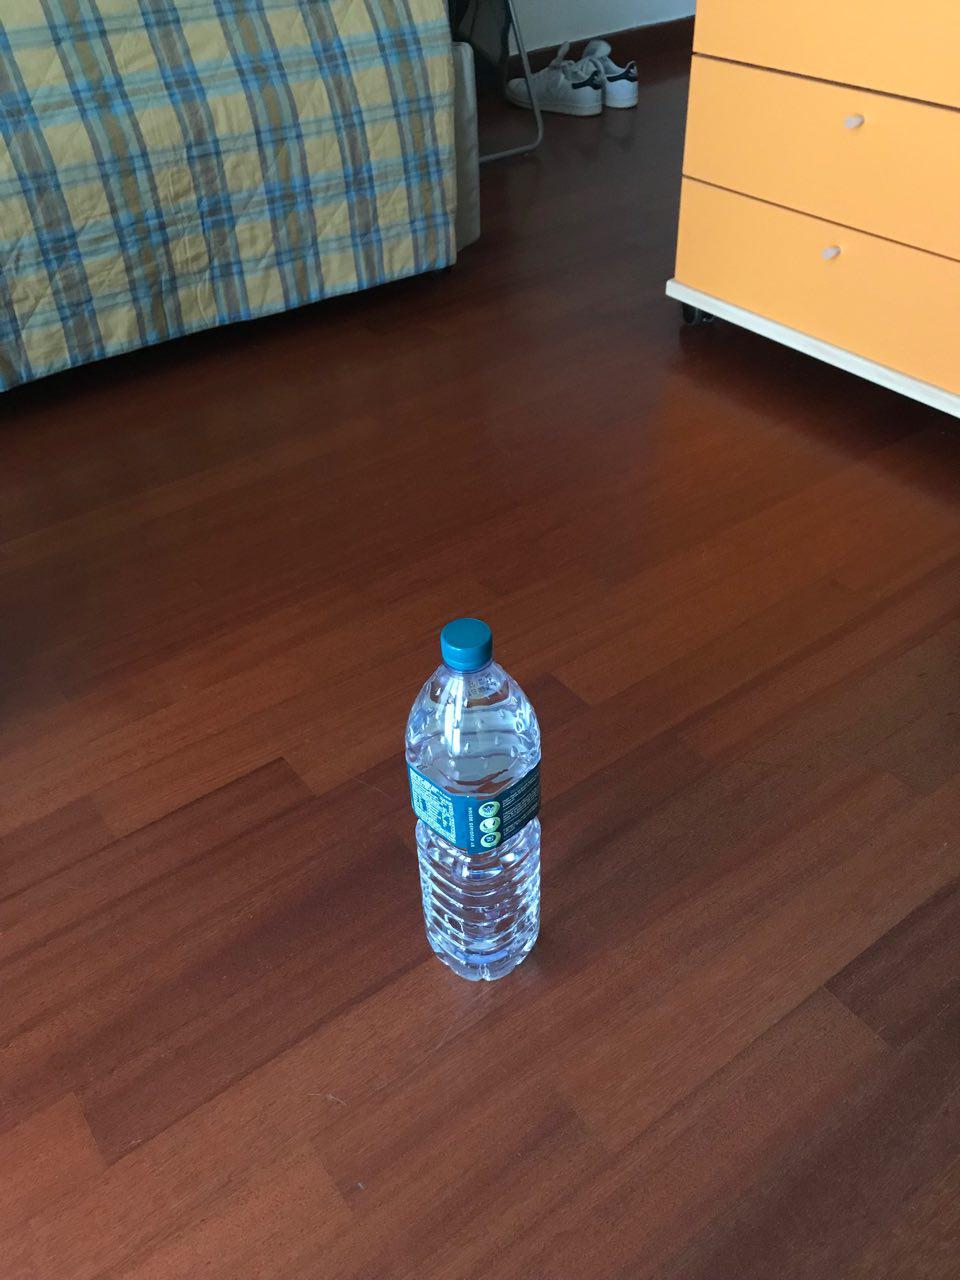san_bernardo: (402, 617, 545, 982)
